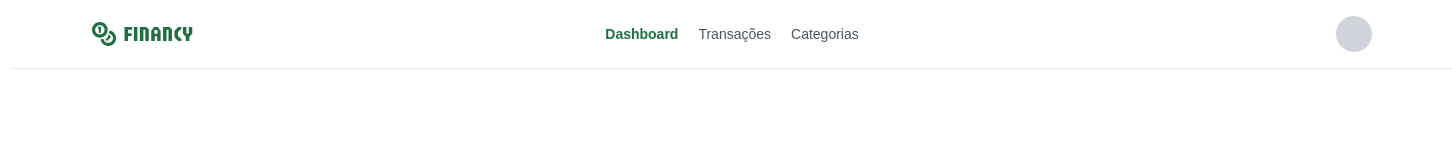
Header › navigates to the corresponding route when a nav item is clicked
Click the link "Transações": (735, 34) [698, 24, 771, 44]
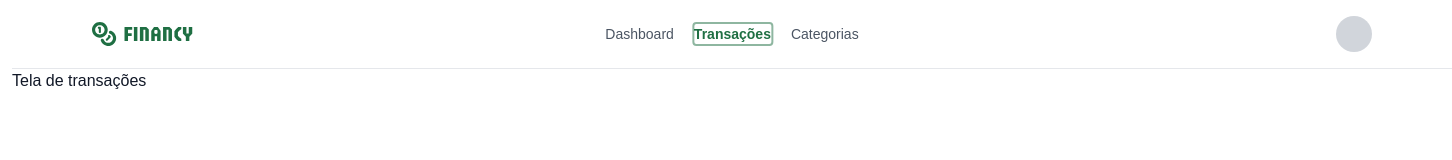
Now the text "Tela de transações" is shown, box [12, 72, 146, 89]
